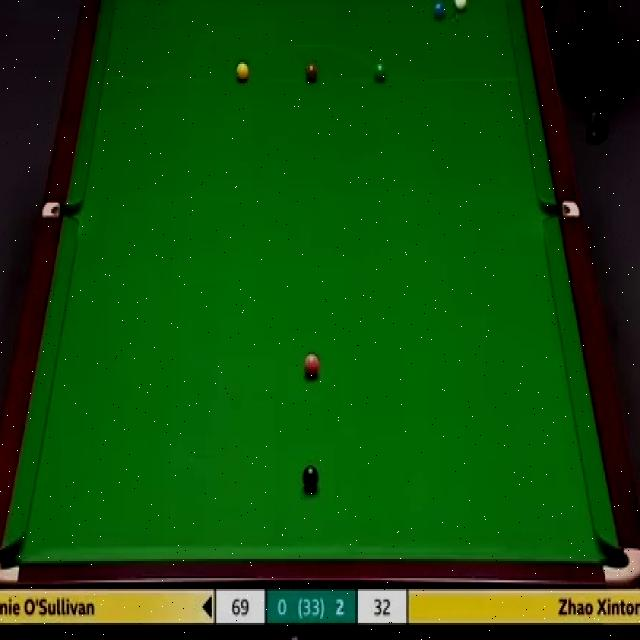black-ball: (301, 464, 319, 492)
blue-ball: (431, 0, 446, 22)
brown-ball: (304, 60, 319, 83)
green-ball: (371, 62, 387, 84)
pink-ball: (302, 353, 320, 378)
white-ball: (453, 0, 468, 13)
yellow-ball: (235, 59, 250, 82)
